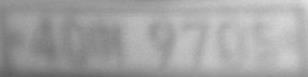0: (215, 18, 248, 71), (61, 16, 90, 70)
4: (26, 12, 59, 69)
5: (250, 19, 282, 68)
7: (179, 18, 210, 74)
9: (146, 17, 176, 73)
머: (92, 20, 122, 65)
